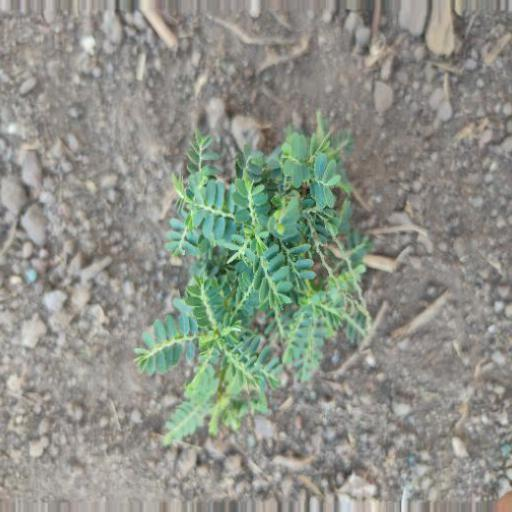weed: (121, 103, 382, 425)
